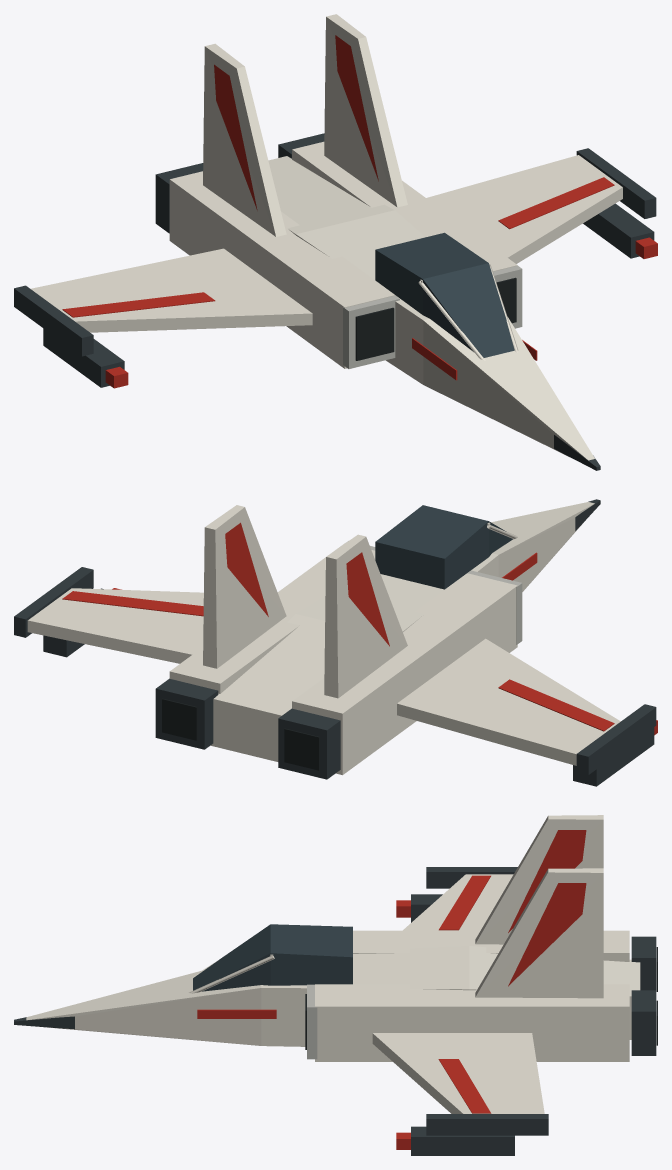
The picture shows the model from 3 angles, top to bottom: view 1: azimuth 30°, elevation 25°; view 2: azimuth 150°, elevation 25°; view 3: azimuth 270°, elevation 25°; orthographic projection. The views are drawn at different scales.
Parts seen in each view (by area): view 1: jet-b-fleet-armor, jet-b-fleet-glass, jet-b-fleet-machine, jet-b-fleet-red, jet-b-fleet-rubber, jet-b-fleet-edge; view 2: jet-b-fleet-armor, jet-b-fleet-machine, jet-b-fleet-glass, jet-b-fleet-red, jet-b-fleet-rubber, jet-b-fleet-edge; view 3: jet-b-fleet-armor, jet-b-fleet-machine, jet-b-fleet-red, jet-b-fleet-glass, jet-b-fleet-edge.
Boxes of the visible parts, x1,y1,x2,y2 form: jet-b-fleet-armor: [30, 14, 622, 460]; jet-b-fleet-glass: [375, 232, 514, 357]; jet-b-fleet-machine: [14, 133, 656, 470]; jet-b-fleet-red: [62, 35, 657, 388]; jet-b-fleet-rubber: [355, 277, 516, 360]; jet-b-fleet-edge: [343, 266, 522, 368]; jet-b-fleet-armor: [27, 502, 620, 775]; jet-b-fleet-machine: [14, 499, 656, 786]; jet-b-fleet-glass: [375, 505, 512, 589]; jet-b-fleet-red: [62, 522, 657, 735]; jet-b-fleet-rubber: [162, 698, 319, 770]; jet-b-fleet-edge: [346, 541, 522, 644]; jet-b-fleet-armor: [26, 815, 640, 1113]; jet-b-fleet-machine: [14, 867, 656, 1155]; jet-b-fleet-red: [197, 830, 586, 1149]; jet-b-fleet-glass: [193, 924, 352, 991]; jet-b-fleet-edge: [307, 984, 317, 1059].
Size of the model in its own units: 50.69 by 17.86 by 54.74.
